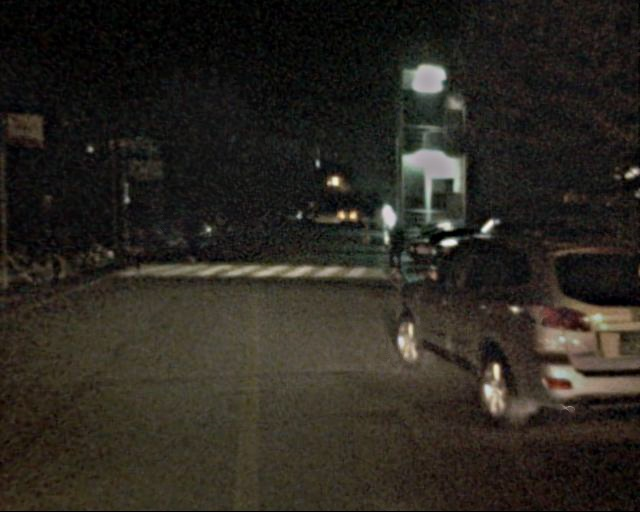person: (381, 223, 406, 285), (123, 218, 144, 270), (181, 216, 193, 254)
